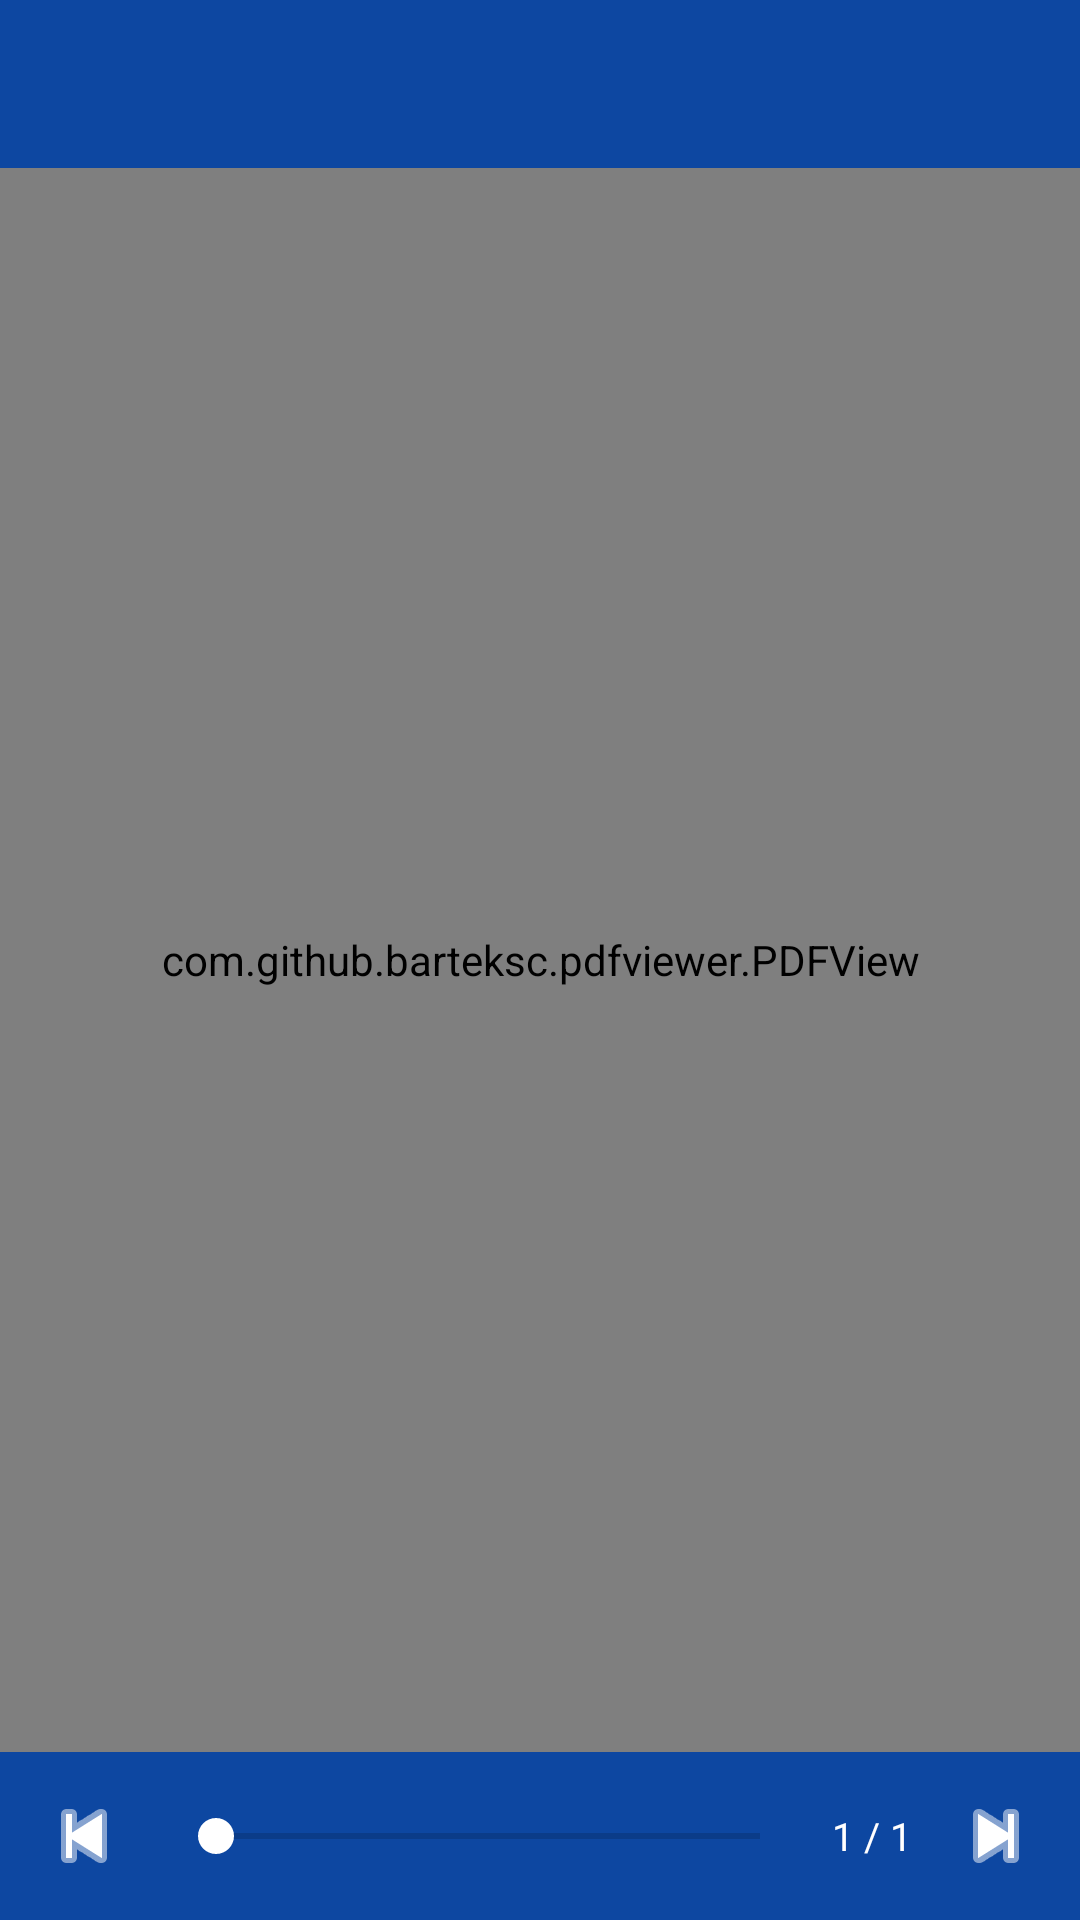

Screen size 1080 × 1920. Icon name, then its box in pixels as (x1, y1, x2, y2):
上一页: (61, 1809, 107, 1863)
下一页: (973, 1809, 1019, 1863)
